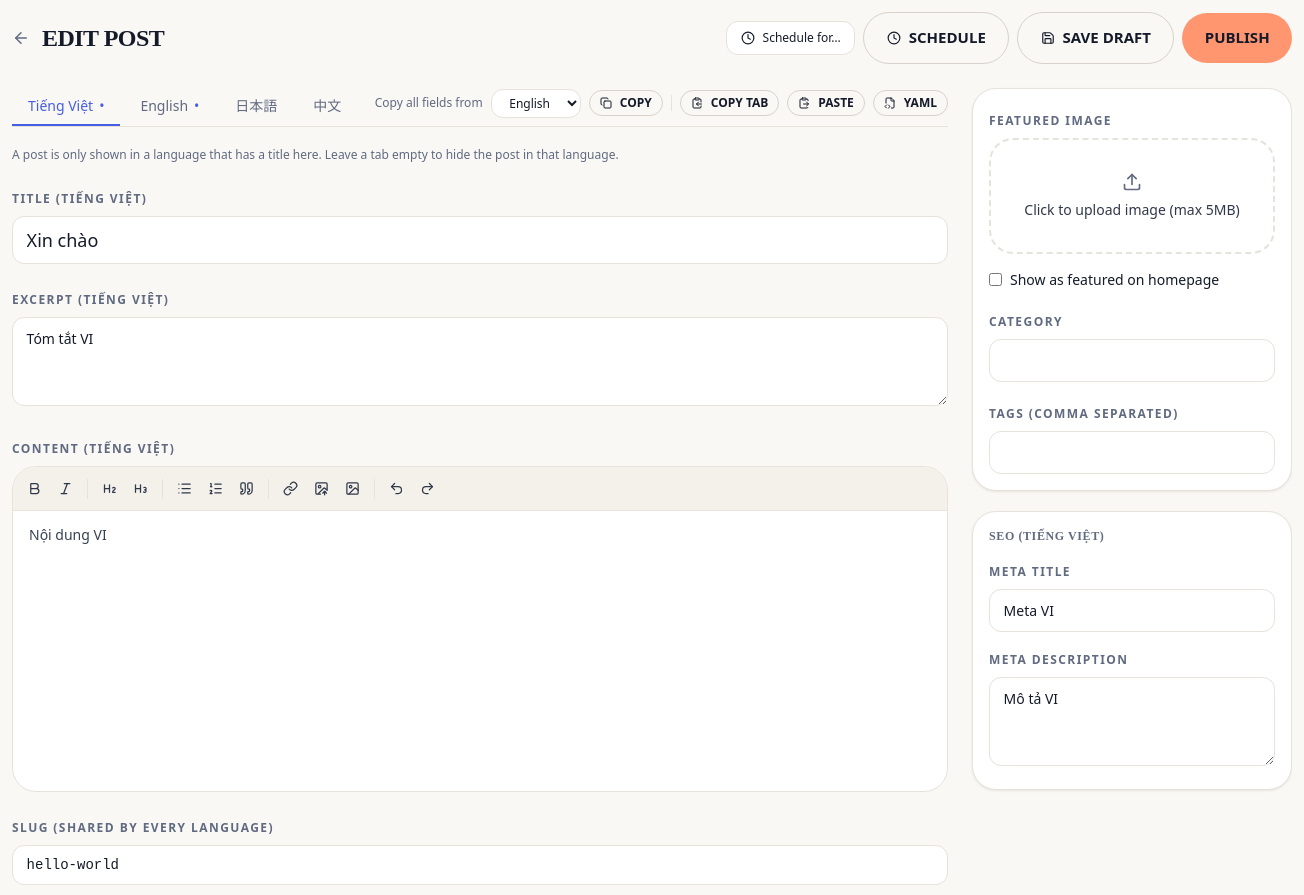
Test: PostEditor clipboard copy/paste › rejects clipboard content that is not a copied translation
The image size is (1304, 895).
Check: the field labelled "Title (Tiếng Việt)" holds "Xin chào", box left=12, top=216, right=948, bottom=264
Click the button "English•" at (170, 107), box left=124, top=88, right=215, bottom=126
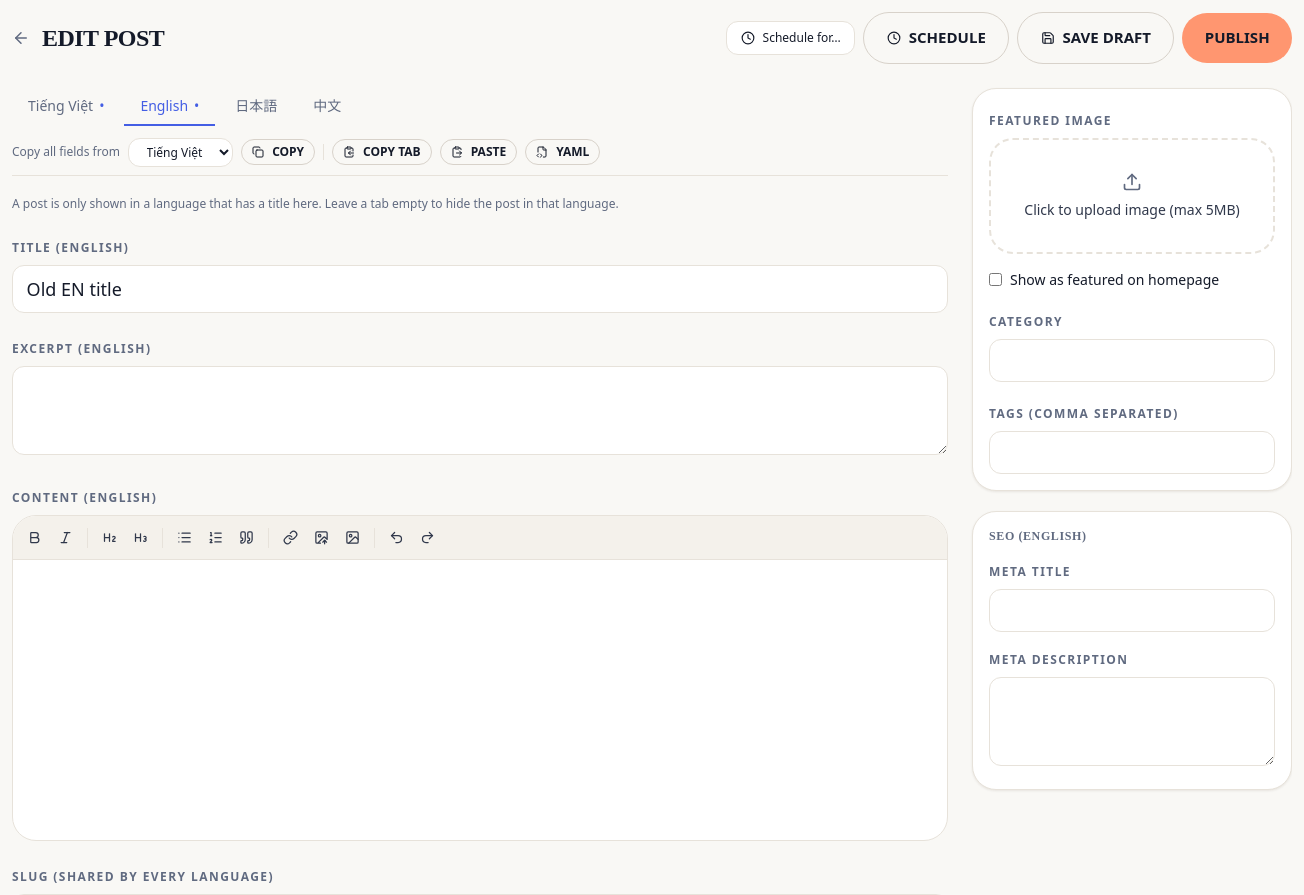
Click the button "PASTE" at (478, 152), box left=440, top=139, right=517, bottom=165
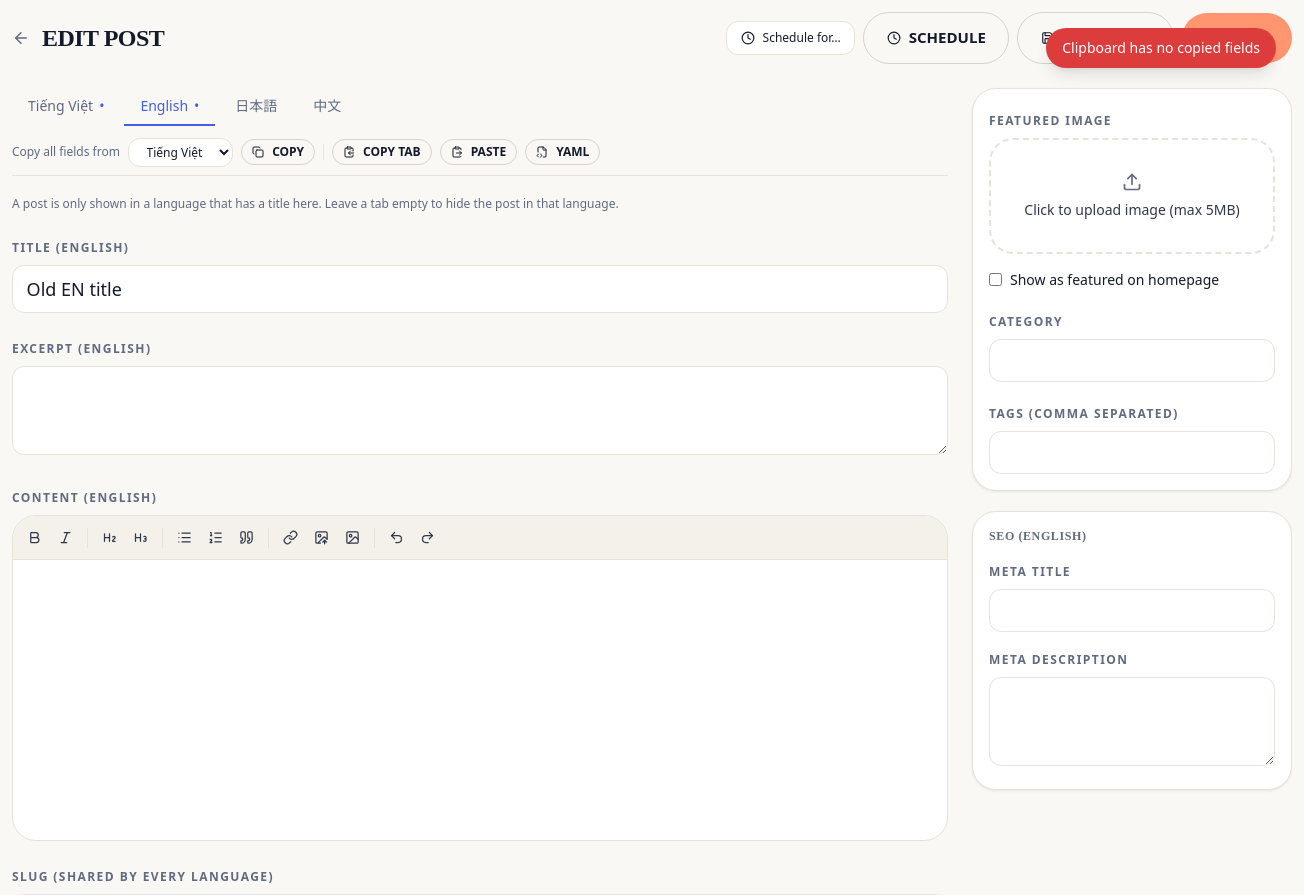
Check: the field labelled "Title (English)" holds "Old EN title", box left=12, top=265, right=948, bottom=312
Check: the text "Clipboard has no copied fields" is shown, box left=1046, top=28, right=1276, bottom=68
